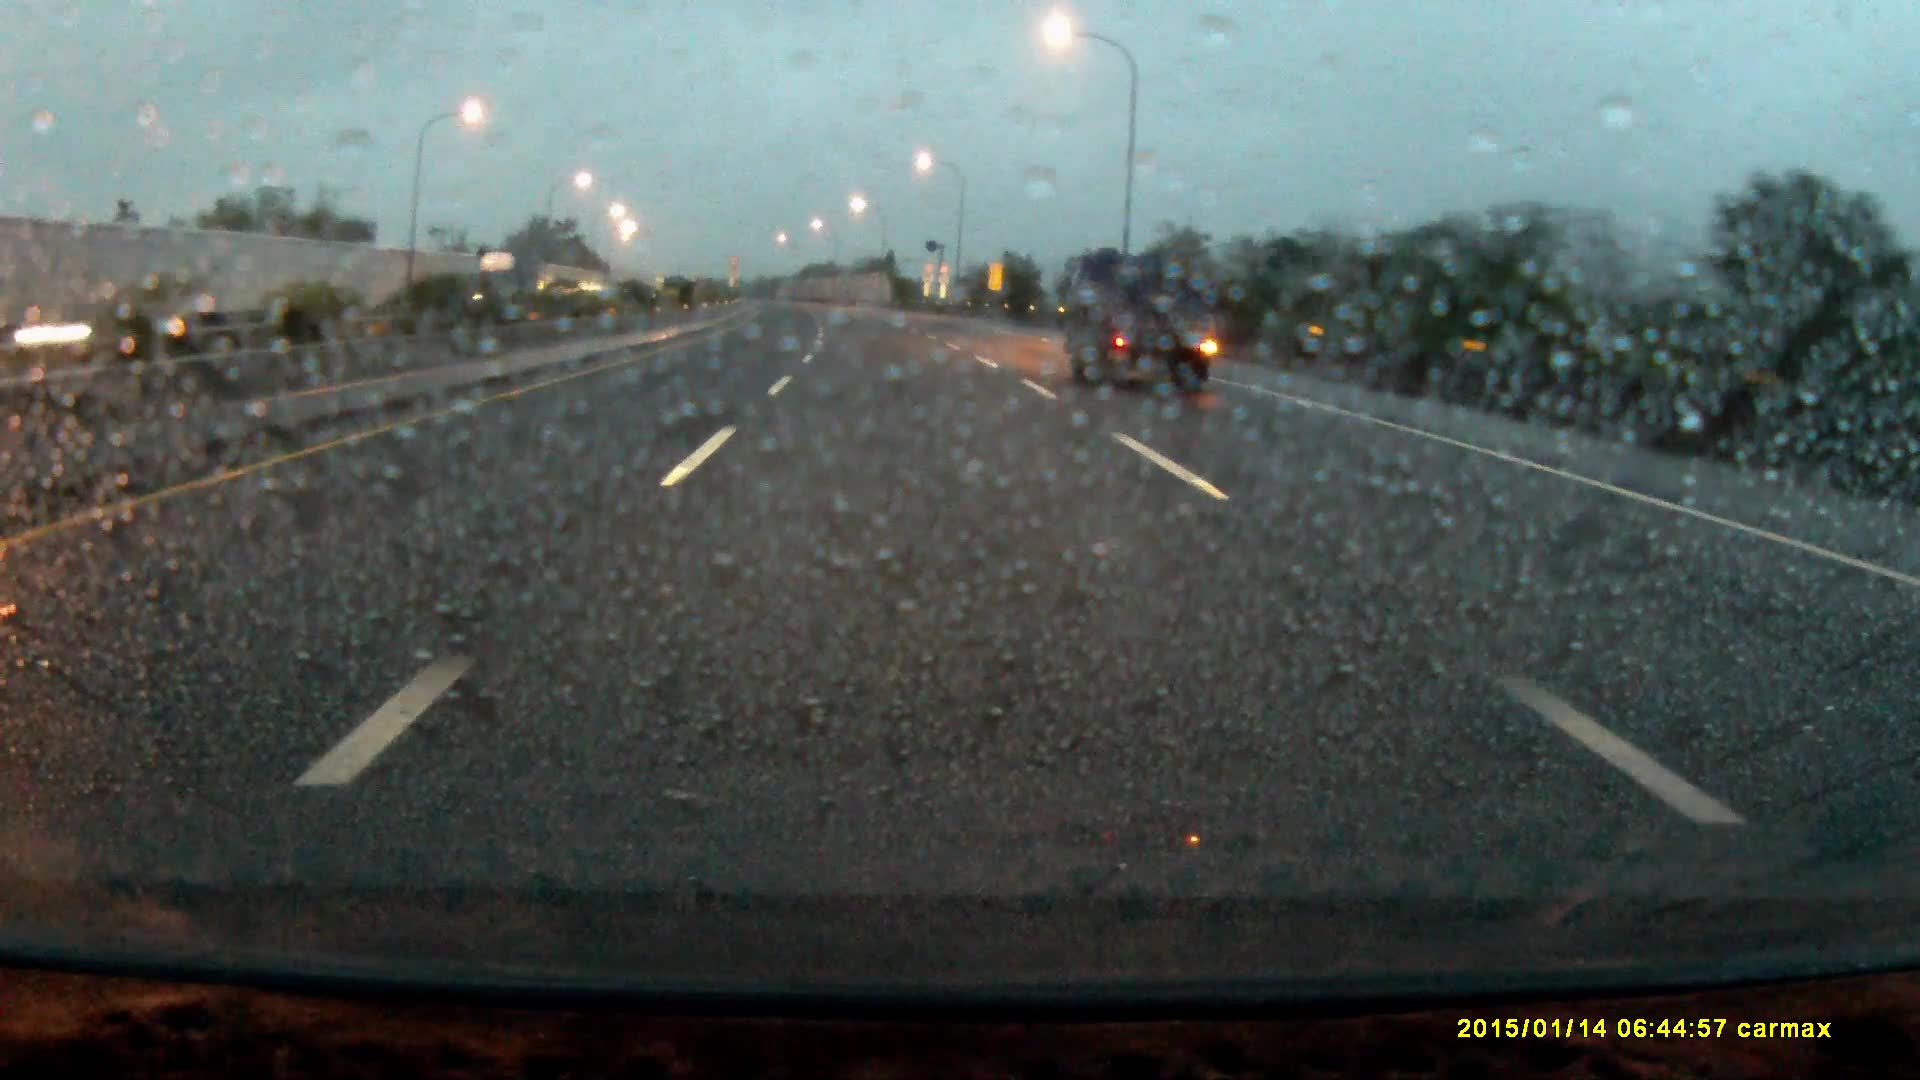vehicle: (1063, 251, 1212, 401), (471, 251, 543, 327)
